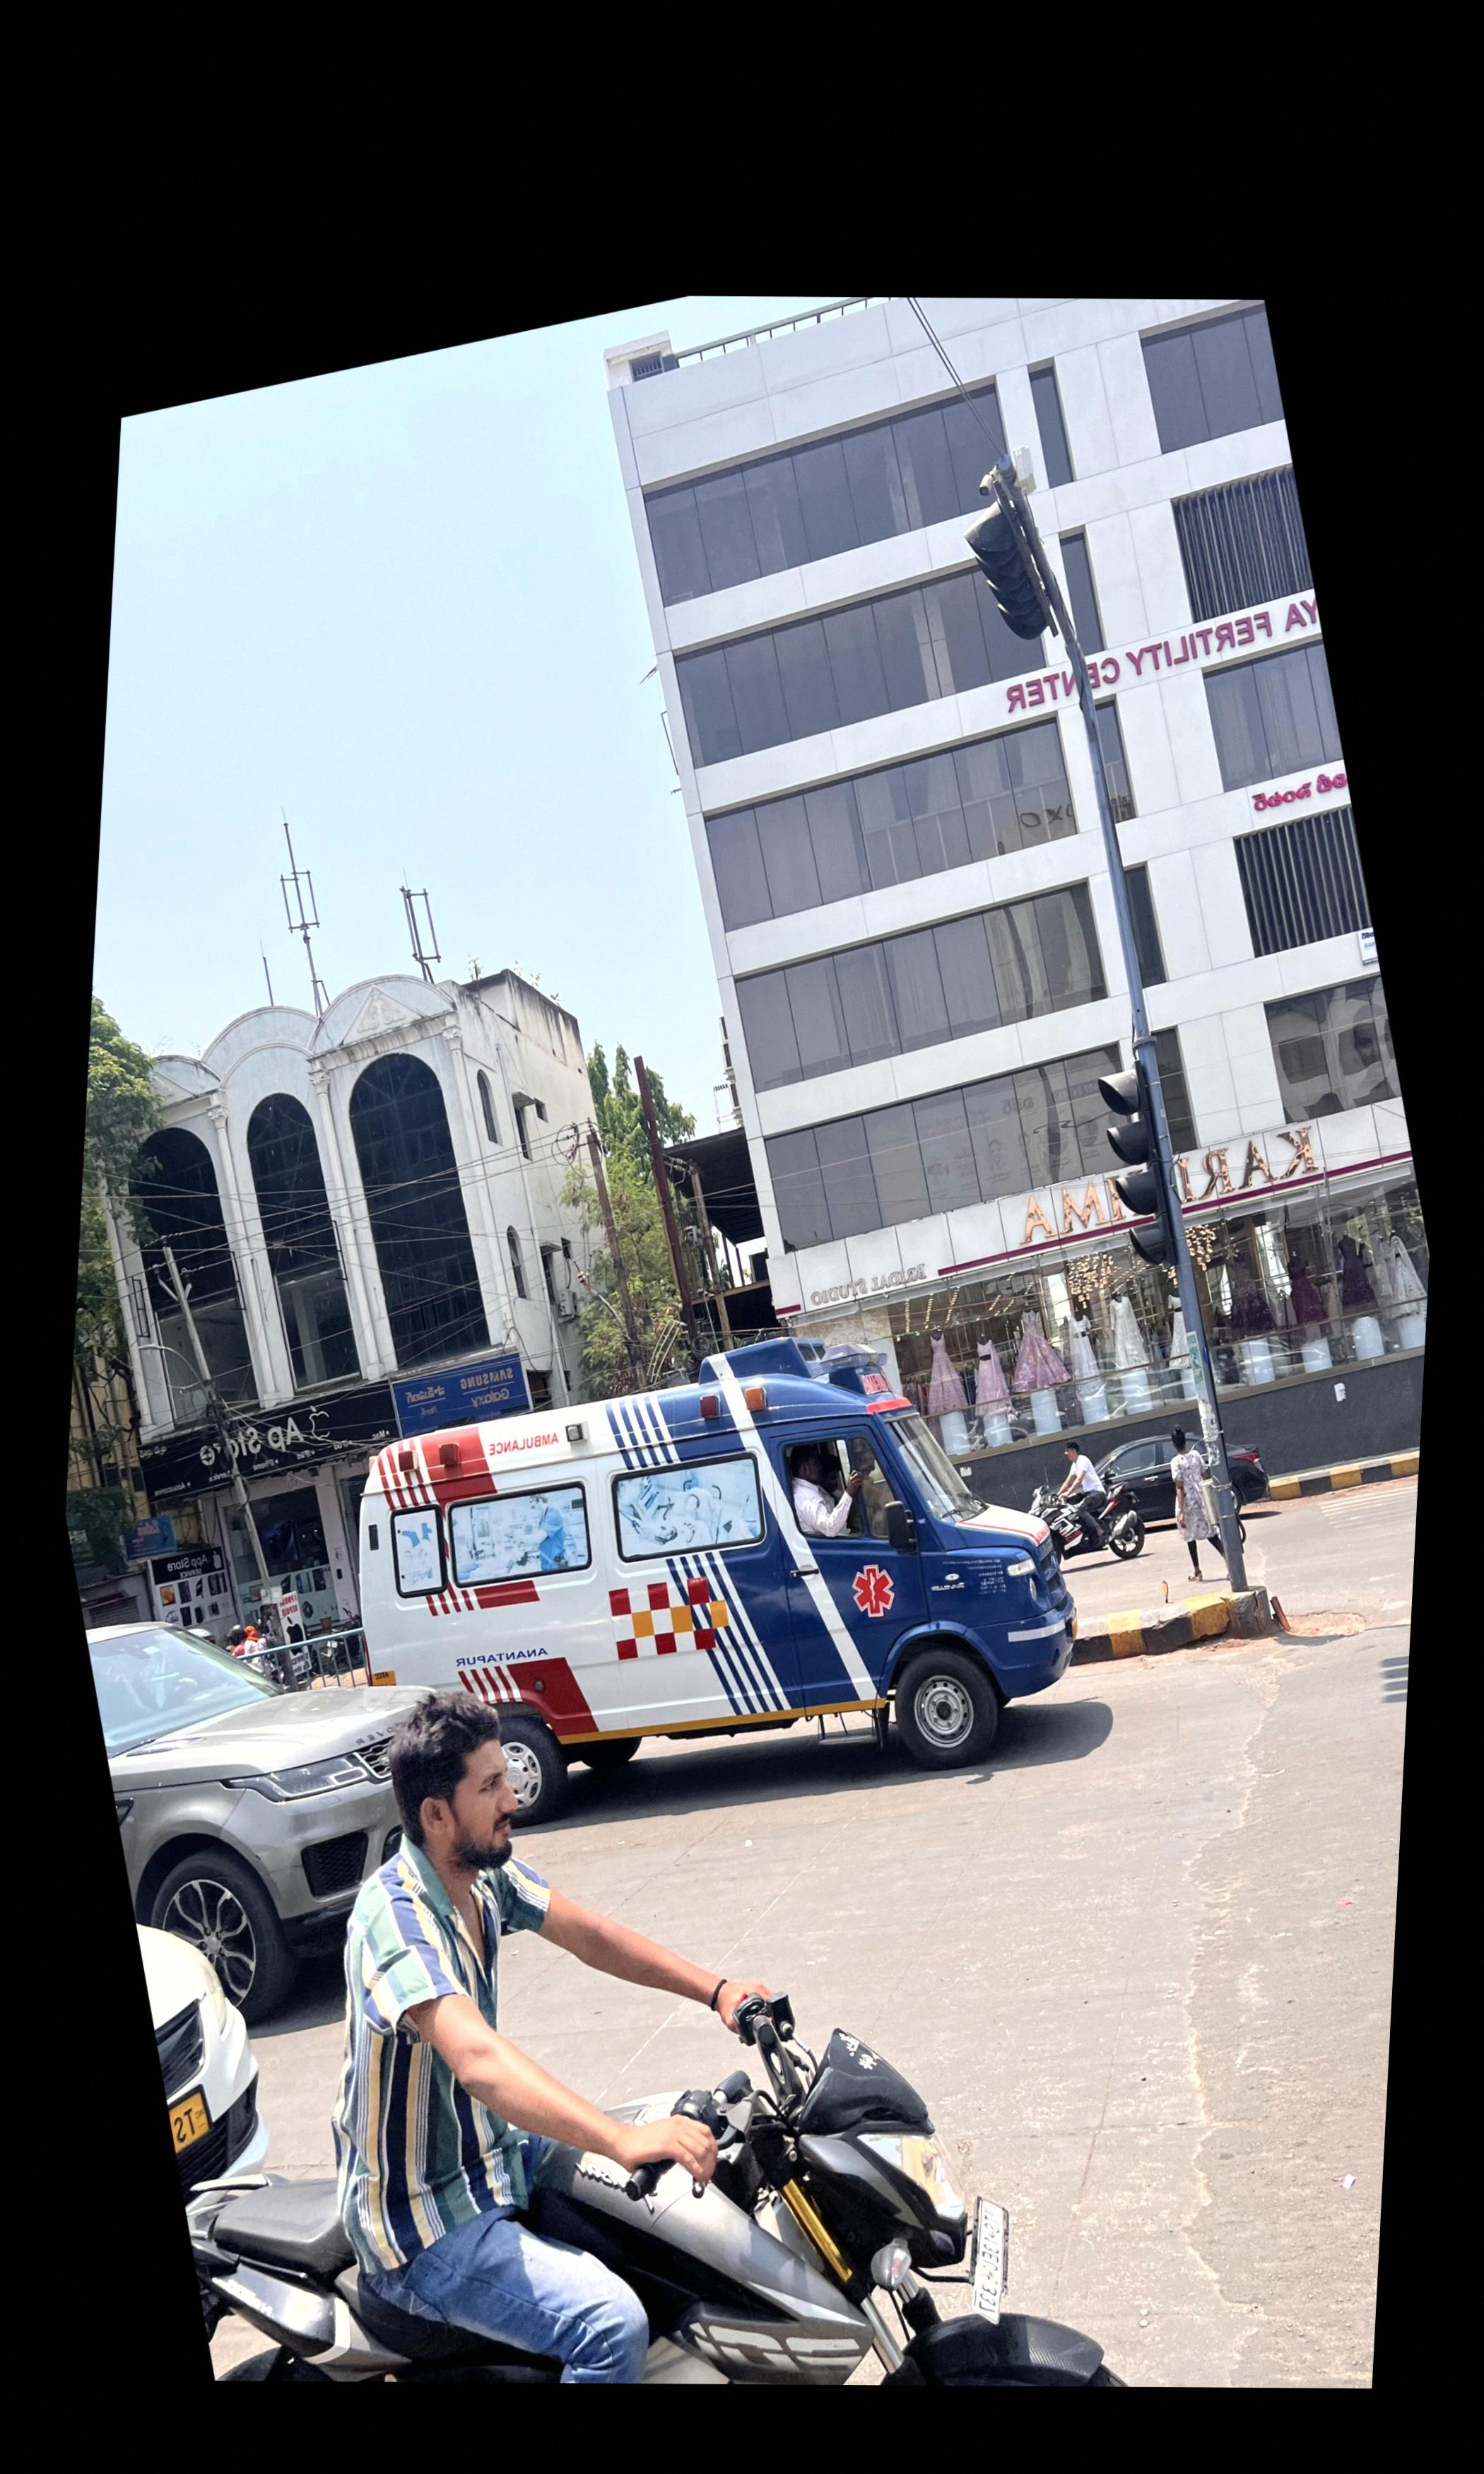ambulance: (352, 1371, 1078, 1769)
